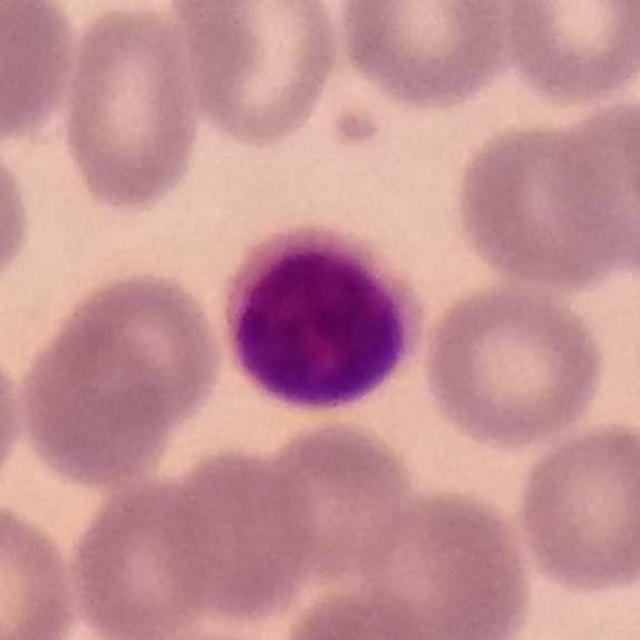Lymphocyte: (216, 224, 424, 418)
RBC: (13, 264, 227, 486), (448, 110, 634, 293), (417, 278, 611, 453), (56, 1, 206, 219), (150, 442, 324, 624), (342, 482, 538, 640), (246, 413, 420, 589), (62, 475, 225, 640), (170, 0, 344, 151), (511, 416, 640, 598), (330, 0, 516, 115), (537, 92, 640, 280), (497, 0, 640, 109), (0, 497, 82, 640), (0, 1, 80, 145), (274, 580, 457, 640), (0, 122, 37, 303), (0, 328, 28, 511)
